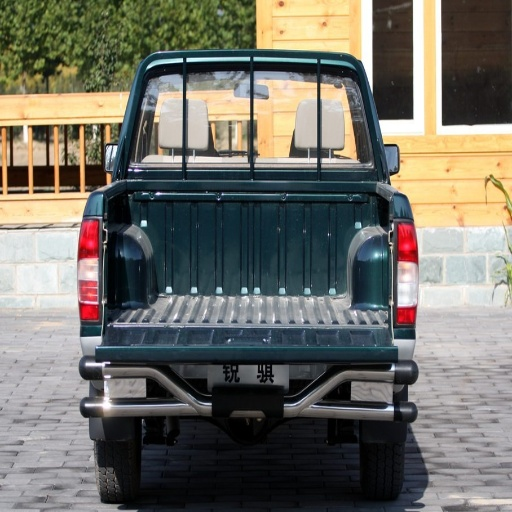trunk: (131, 73, 366, 212), (280, 226, 393, 357), (96, 299, 212, 364)
